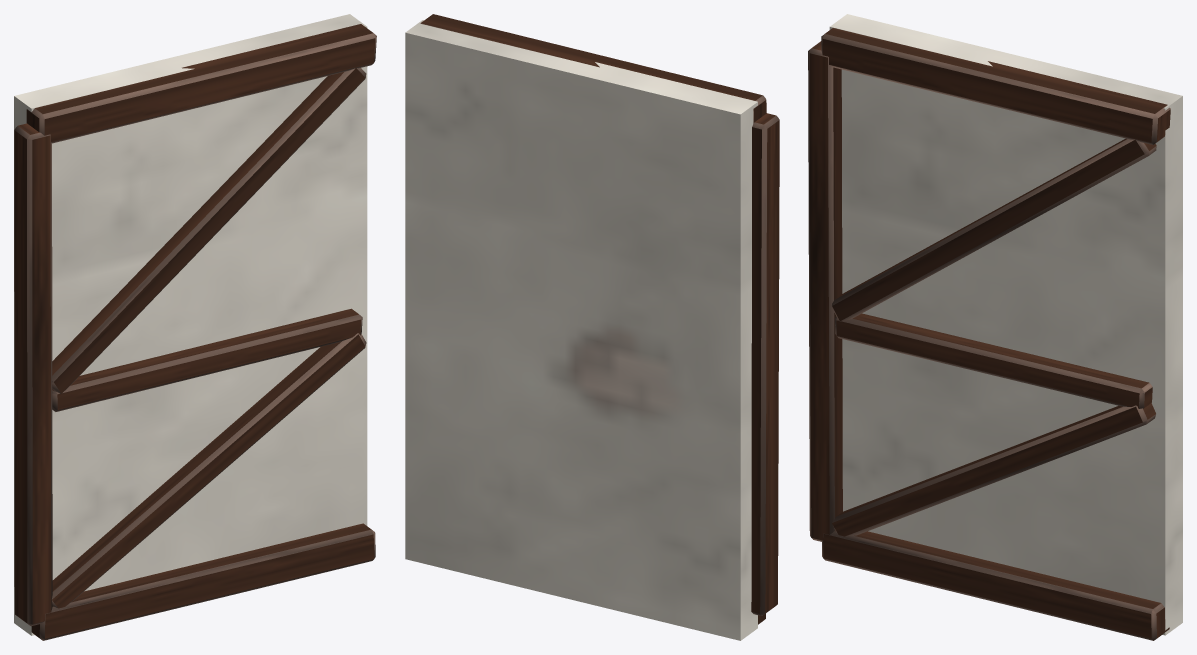
Rendered from SM_Mod_Wall_Timber_Plain.gltf.
3 views of the same model, side by side, from view 1: azimuth 30°, elevation 25°; view 2: azimuth 150°, elevation 25°; view 3: azimuth 330°, elevation 25° (orthographic).
Parts seen in each view (by area): view 1: SM_Mod_Wall_Timber_Plain; view 2: SM_Mod_Wall_Timber_Plain; view 3: SM_Mod_Wall_Timber_Plain.
Boxes of the visible parts, x1,y1,x2,y2 form: SM_Mod_Wall_Timber_Plain: (14, 14, 376, 640); SM_Mod_Wall_Timber_Plain: (405, 14, 779, 640); SM_Mod_Wall_Timber_Plain: (808, 14, 1182, 640).
Size of the model in its own units: 2.09 by 3 by 0.2879.
Materials: 1 (1 with a texture image).
